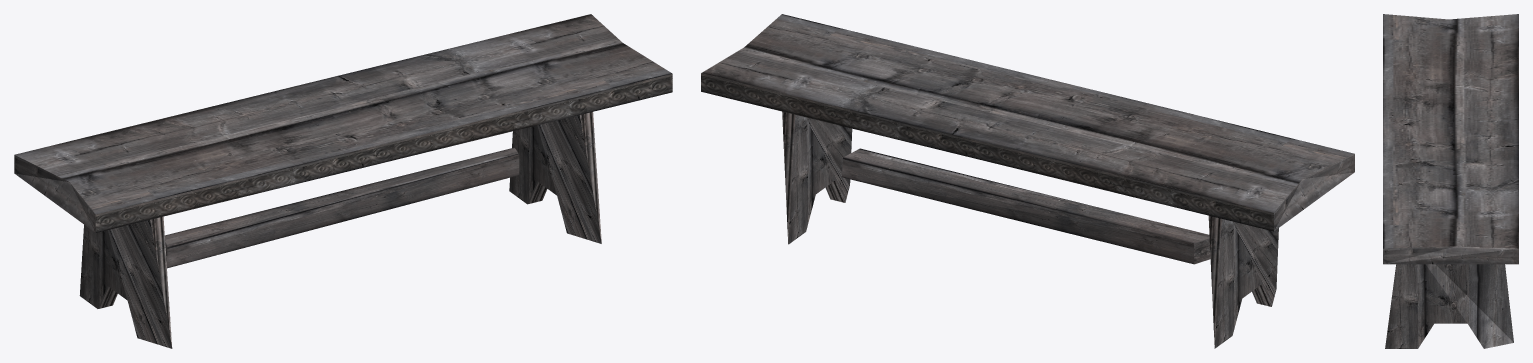
File: tavern_bench_LOD.dae
3 renders of one model, left to right at view 1: azimuth 30°, elevation 25°; view 2: azimuth 150°, elevation 25°; view 3: azimuth 270°, elevation 25°, orthographic. The views are drawn at different scales.
Visible parts, largest first — view 1: Default_Layer; view 2: Default_Layer; view 3: Default_Layer.
Part boxes in pixels (x1,y1,x2,y2): Default_Layer: (14,14,672,348); Default_Layer: (701,14,1354,348); Default_Layer: (1383,14,1518,348).
Size of the model in its own units: 1.58 by 0.4043 by 0.3867.
